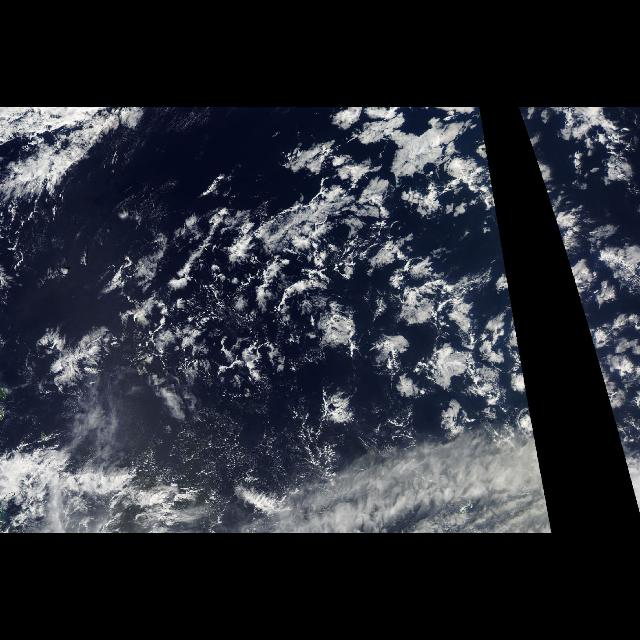Flower: (205, 128, 535, 440), (525, 128, 639, 440)
